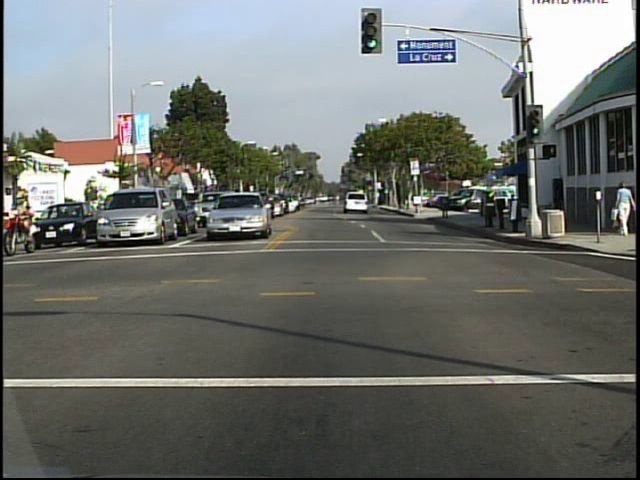person: (6, 187, 38, 255), (609, 176, 637, 242)
